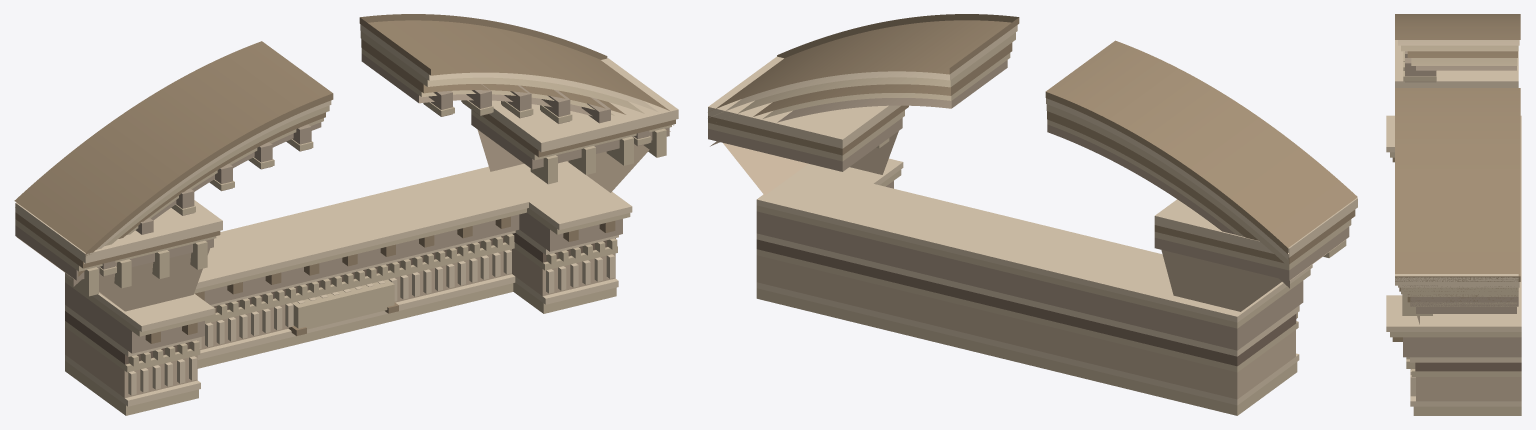
Rendered from jingan-632-no50-broken-pediment-web.glb.
3 views of the same model, side by side, from view 1: azimuth 30°, elevation 25°; view 2: azimuth 150°, elevation 25°; view 3: azimuth 270°, elevation 25° (orthographic). The views are drawn at different scales.
Parts seen in each view (by area): view 1: 延安中路632弄50号住宅西门弧形断山花; view 2: 延安中路632弄50号住宅西门弧形断山花; view 3: 延安中路632弄50号住宅西门弧形断山花.
Part boxes in pixels (<box>): 延安中路632弄50号住宅西门弧形断山花: <box>14,14,678,415</box>; 延安中路632弄50号住宅西门弧形断山花: <box>708,14,1357,415</box>; 延安中路632弄50号住宅西门弧形断山花: <box>1386,14,1521,415</box>.
Size of the model in its own units: 4.06 by 1.85 by 0.909.
